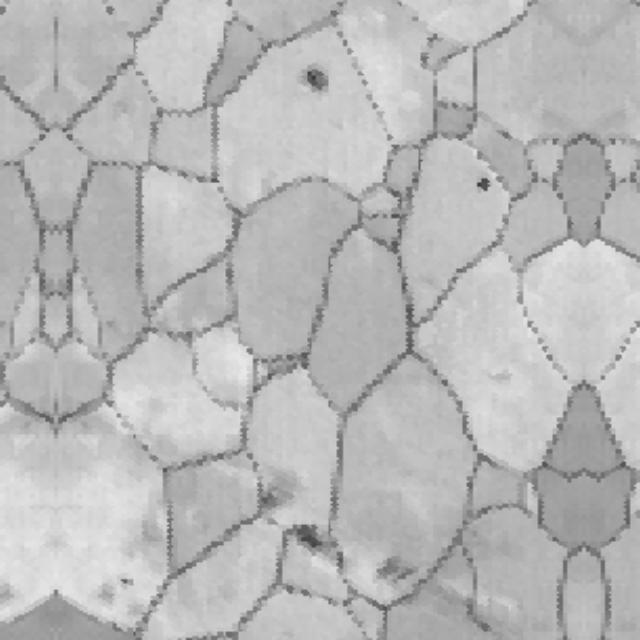good_void: (291, 513, 331, 557), (375, 557, 416, 589), (295, 63, 335, 93), (466, 170, 501, 199), (485, 366, 518, 389), (98, 0, 121, 21), (110, 574, 135, 593), (383, 183, 406, 203), (210, 0, 233, 15)
